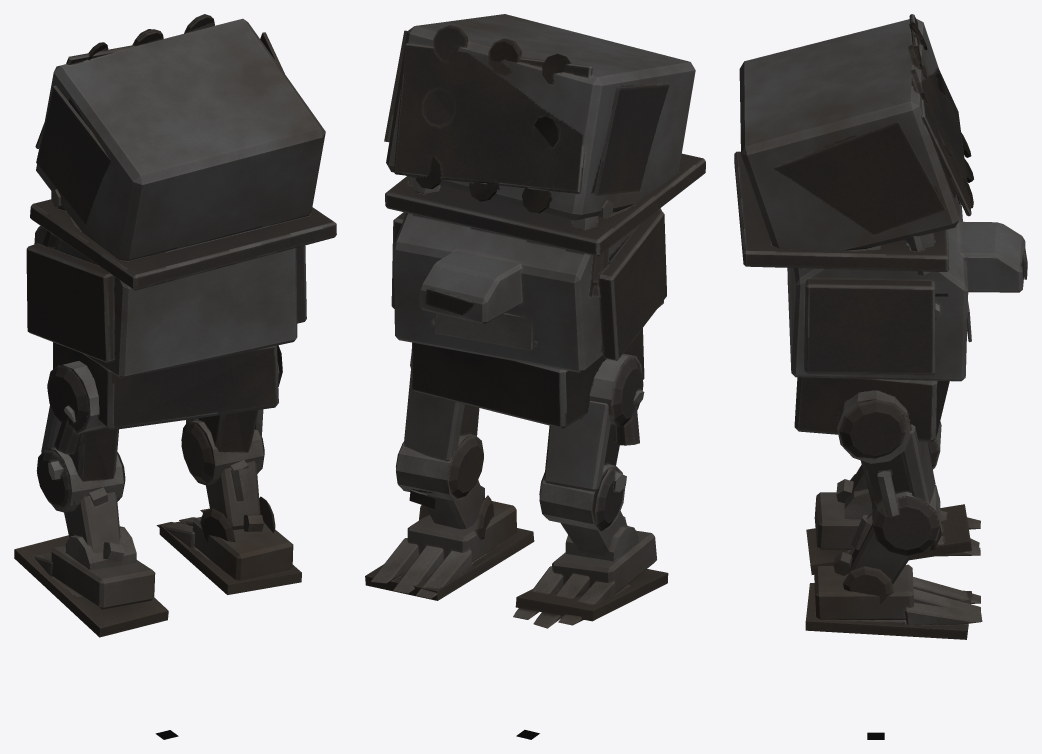
Rendered from chs_wrath_wreck.fbx.
The picture shows the model from 3 angles, left to right: view 1: azimuth 30°, elevation 25°; view 2: azimuth 150°, elevation 25°; view 3: azimuth 270°, elevation 25°; orthographic projection. The views are drawn at different scales.
Visible parts, largest first — view 1: launcher_bar, torso_bar, base_bar, thighL_bar, footL_bar, footR_bar, thighR_bar, shinL_bar, shinR_bar; view 2: launcher_bar, torso_bar, thighL_bar, base_bar, footR_bar, footL_bar, thighR_bar, shinR_bar, shinL_bar; view 3: launcher_bar, torso_bar, thighR_bar, footR_bar, base_bar, footL_bar, shinR_bar, shinL_bar.
Part boxes in pixels (x1,y1,x2,y2): launcher_bar: [35, 14, 325, 260]; torso_bar: [26, 189, 336, 378]; base_bar: [53, 342, 278, 430]; thighL_bar: [36, 361, 125, 512]; footL_bar: [14, 535, 168, 637]; footR_bar: [156, 508, 301, 594]; thighR_bar: [181, 345, 282, 485]; shinL_bar: [64, 487, 136, 569]; shinR_bar: [200, 460, 275, 541]; launcher_bar: [384, 14, 695, 230]; torso_bar: [385, 153, 705, 372]; thighL_bar: [539, 353, 644, 531]; base_bar: [411, 328, 644, 428]; footR_bar: [365, 501, 534, 600]; footL_bar: [513, 530, 668, 628]; thighR_bar: [396, 353, 483, 501]; shinR_bar: [409, 480, 493, 539]; shinL_bar: [560, 511, 638, 561]; launcher_bar: [739, 14, 973, 250]; torso_bar: [734, 151, 1027, 381]; thighR_bar: [837, 390, 941, 555]; footR_bar: [805, 564, 982, 639]; base_bar: [794, 377, 949, 441]; footL_bar: [806, 492, 980, 574]; shinR_bar: [833, 512, 941, 603]; shinL_bar: [836, 465, 872, 519].
Bounding box in the file's own units: 301 × 877 × 337.
Materials: 2 (2 with a texture image).
